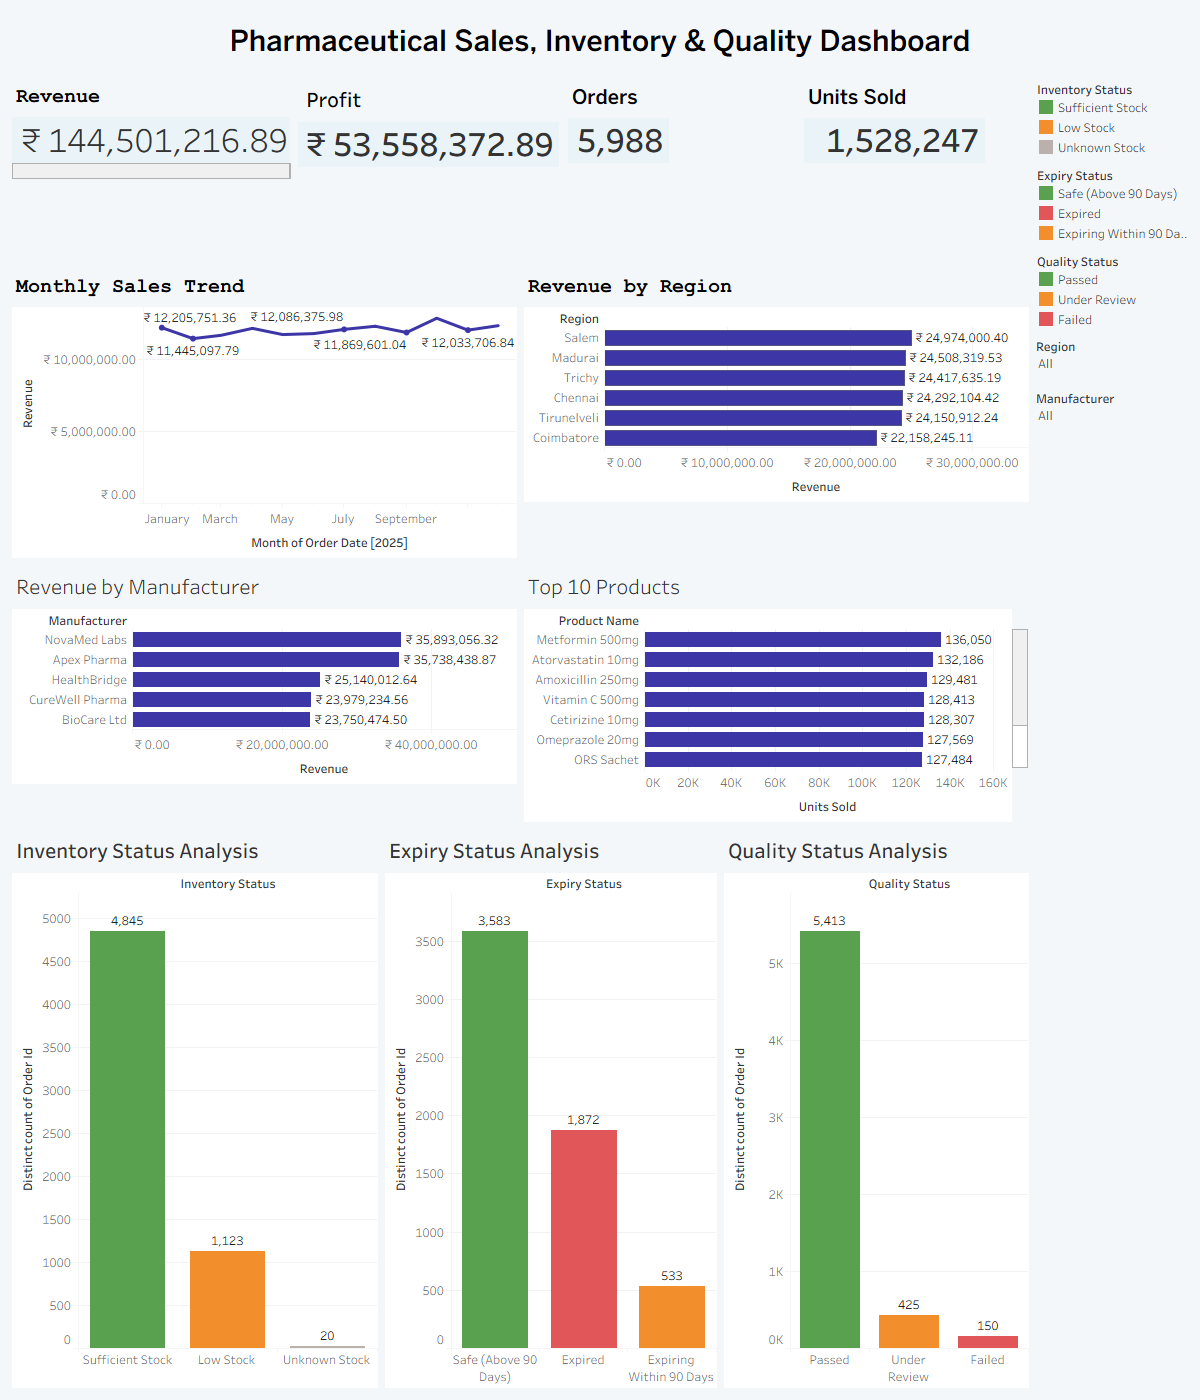

What the dashboard file says about the page in this screenshot:
{"tool":"tableau","page":{"name":"Pharmaceutical_Analytics_Dashboard","canvas":[1200,1400],"ordinal":0},"visuals":[{"type":"text","box":[8,8,1184,67]},{"type":"worksheet","title":"KPI_Total_Revenue","mark":"Text","box":[8,75,286,190]},{"type":"worksheet","title":"KPI_Total_Profit","mark":"Text","box":[294,75,270,190]},{"type":"worksheet","title":"KPI_Total_Orders","mark":"Automatic","box":[564,75,236,190]},{"type":"worksheet","title":"KPI_Total_Units_Sold","mark":"Text","box":[800,75,232,190]},{"type":"legend","title":"Inventory Status Analysis","param":"[federated.1ajwy1410tti701dcgfwf1fwajdq].[none:inventory_status:nk]","box":[1032,75,160,86]},{"type":"legend","title":"Expiry Status Analysis","param":"[federated.1ajwy1410tti701dcgfwf1fwajdq].[none:expiry_status:nk]","box":[1032,161,160,86]},{"type":"legend","title":"Quality Status Analysis","param":"[federated.1ajwy1410tti701dcgfwf1fwajdq].[none:quality_status:nk]","box":[1032,247,160,86]},{"type":"worksheet","title":"Monthly_Sales_Trend","mark":"Automatic","rows":["revenue"],"cols":["order_date"],"box":[8,265,512,297]},{"type":"worksheet","title":"Region_Revenue","mark":"Automatic","rows":["region"],"cols":["revenue"],"box":[520,265,512,297]},{"type":"filter","title":"Region_Revenue","param":"[federated.1ajwy1410tti701dcgfwf1fwajdq].[none:region:nk]","box":[1032,333,160,52]},{"type":"filter","title":"Revenue by Manufacturer","param":"[federated.1ajwy1410tti701dcgfwf1fwajdq].[none:manufacturer:nk]","box":[1032,385,160,52]},{"type":"worksheet","title":"Revenue by Manufacturer","mark":"Automatic","rows":["manufacturer"],"cols":["revenue"],"box":[8,562,512,264]},{"type":"worksheet","title":"Top 10 Products","mark":"Automatic","rows":["product_name"],"cols":["units_sold"],"box":[520,562,512,264]},{"type":"worksheet","title":"Inventory Status Analysis","mark":"Automatic","rows":["order_id"],"cols":["inventory_status"],"box":[8,826,373,566]},{"type":"worksheet","title":"Expiry Status Analysis","mark":"Automatic","rows":["order_id"],"cols":["expiry_status"],"box":[381,826,339,566]},{"type":"worksheet","title":"Quality Status Analysis","mark":"Automatic","rows":["order_id"],"cols":["quality_status"],"box":[720,826,312,566]}]}

Visuals, with their boxes in screenshot pixels (x1, y1, x2, y2), scaled from the page's 1200x1400 canvas onto the 1200x1400 screenshot:
text: {"left": 8, "top": 8, "right": 1192, "bottom": 75}
"KPI_Total_Revenue" worksheet (Text marks): {"left": 8, "top": 75, "right": 294, "bottom": 265}
"KPI_Total_Profit" worksheet (Text marks): {"left": 294, "top": 75, "right": 564, "bottom": 265}
"KPI_Total_Orders" worksheet: {"left": 564, "top": 75, "right": 800, "bottom": 265}
"KPI_Total_Units_Sold" worksheet (Text marks): {"left": 800, "top": 75, "right": 1032, "bottom": 265}
"Inventory Status Analysis" legend: {"left": 1032, "top": 75, "right": 1192, "bottom": 161}
"Expiry Status Analysis" legend: {"left": 1032, "top": 161, "right": 1192, "bottom": 247}
"Quality Status Analysis" legend: {"left": 1032, "top": 247, "right": 1192, "bottom": 333}
"Monthly_Sales_Trend" worksheet: {"left": 8, "top": 265, "right": 520, "bottom": 562}
"Region_Revenue" worksheet: {"left": 520, "top": 265, "right": 1032, "bottom": 562}
"Region_Revenue" filter: {"left": 1032, "top": 333, "right": 1192, "bottom": 385}
"Revenue by Manufacturer" filter: {"left": 1032, "top": 385, "right": 1192, "bottom": 437}
"Revenue by Manufacturer" worksheet: {"left": 8, "top": 562, "right": 520, "bottom": 826}
"Top 10 Products" worksheet: {"left": 520, "top": 562, "right": 1032, "bottom": 826}
"Inventory Status Analysis" worksheet: {"left": 8, "top": 826, "right": 381, "bottom": 1392}
"Expiry Status Analysis" worksheet: {"left": 381, "top": 826, "right": 720, "bottom": 1392}
"Quality Status Analysis" worksheet: {"left": 720, "top": 826, "right": 1032, "bottom": 1392}
